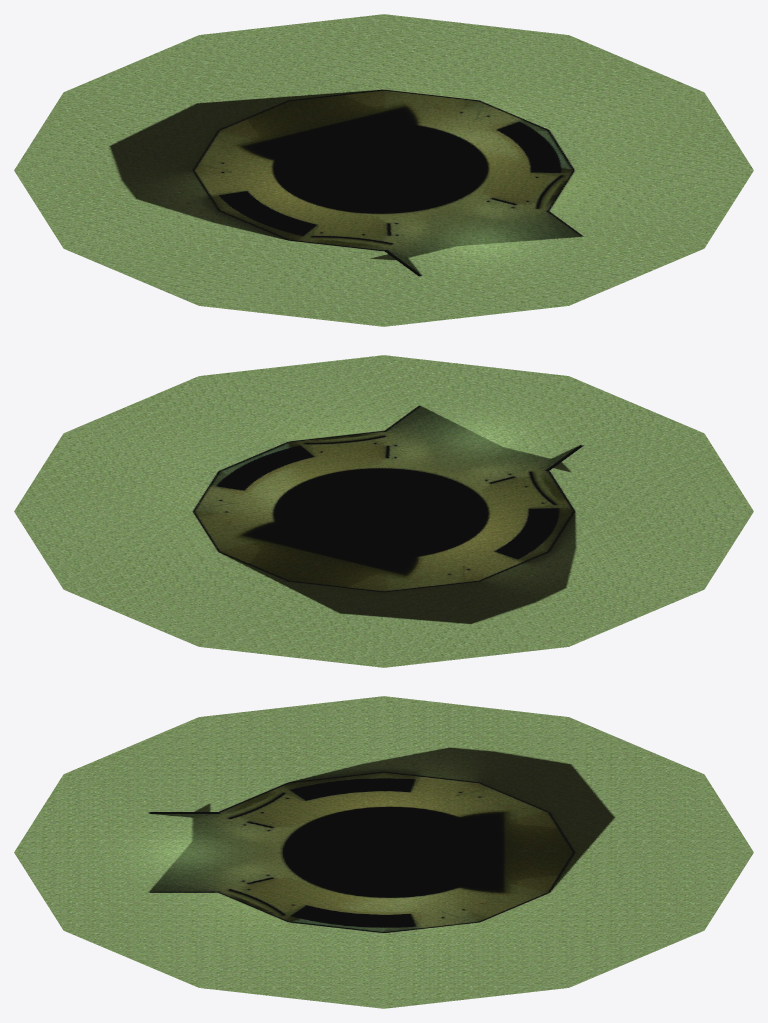
Rendered from Arena_Floor_Grass.glb.
3 views of the same model, one above another, from view 1: azimuth 30°, elevation 25°; view 2: azimuth 150°, elevation 25°; view 3: azimuth 270°, elevation 25° (orthographic).
Parts seen in each view (by area): view 1: 3--Floor_Grass; view 2: 3--Floor_Grass; view 3: 3--Floor_Grass.
Part boxes in pixels (x1,y1,x2,y2): 3--Floor_Grass: (14, 14, 753, 326); 3--Floor_Grass: (14, 355, 753, 667); 3--Floor_Grass: (14, 696, 753, 1008).
Bounding box in the file's own units: 69.01 × 1.94e-07 × 69.01.
Materials: 1 (1 with a texture image).
